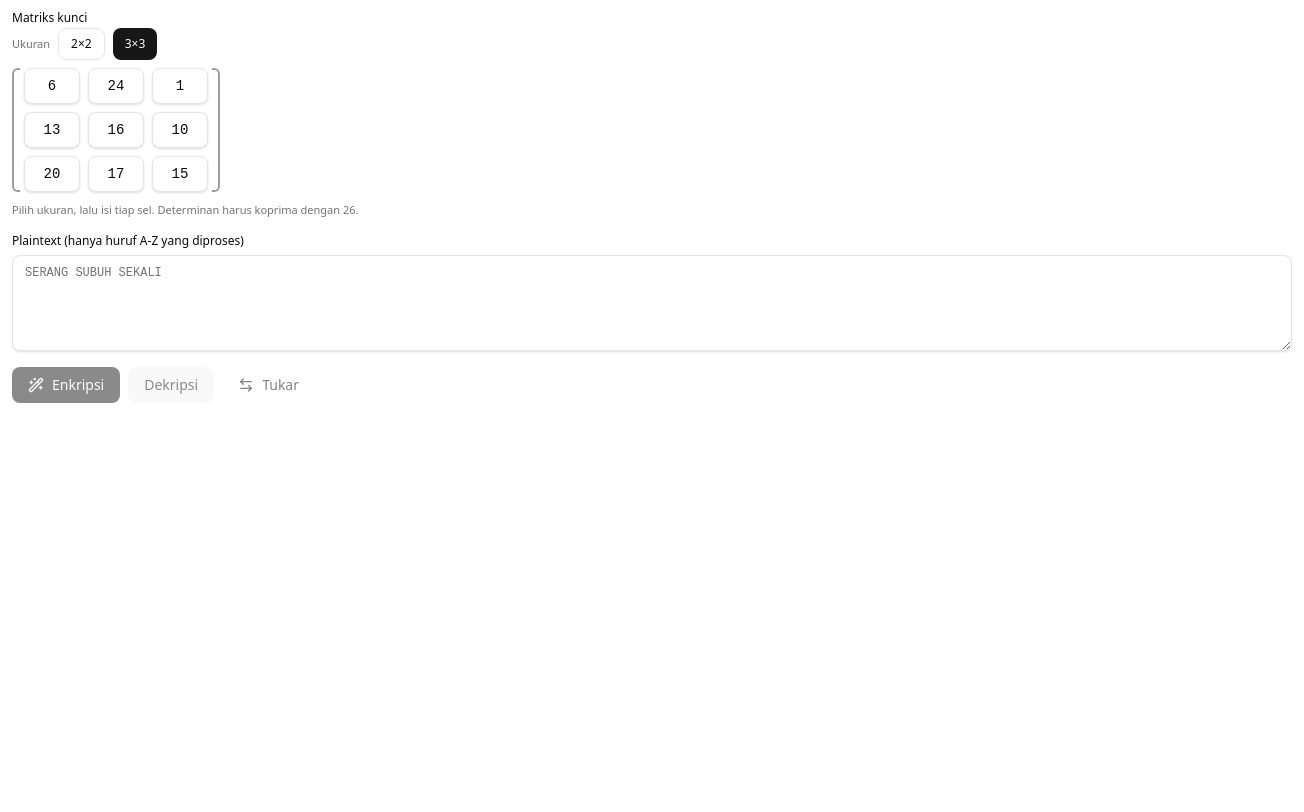
Scenario: TextPanel — enkripsi/dekripsi teks lewat GUI › Hill: matriks 3x3 default, ACT -> poh
Type "ACT" into the text box labelled "Plaintext (hanya huruf A-Z yang diproses)" at (652, 302), box [12,254,1292,350]
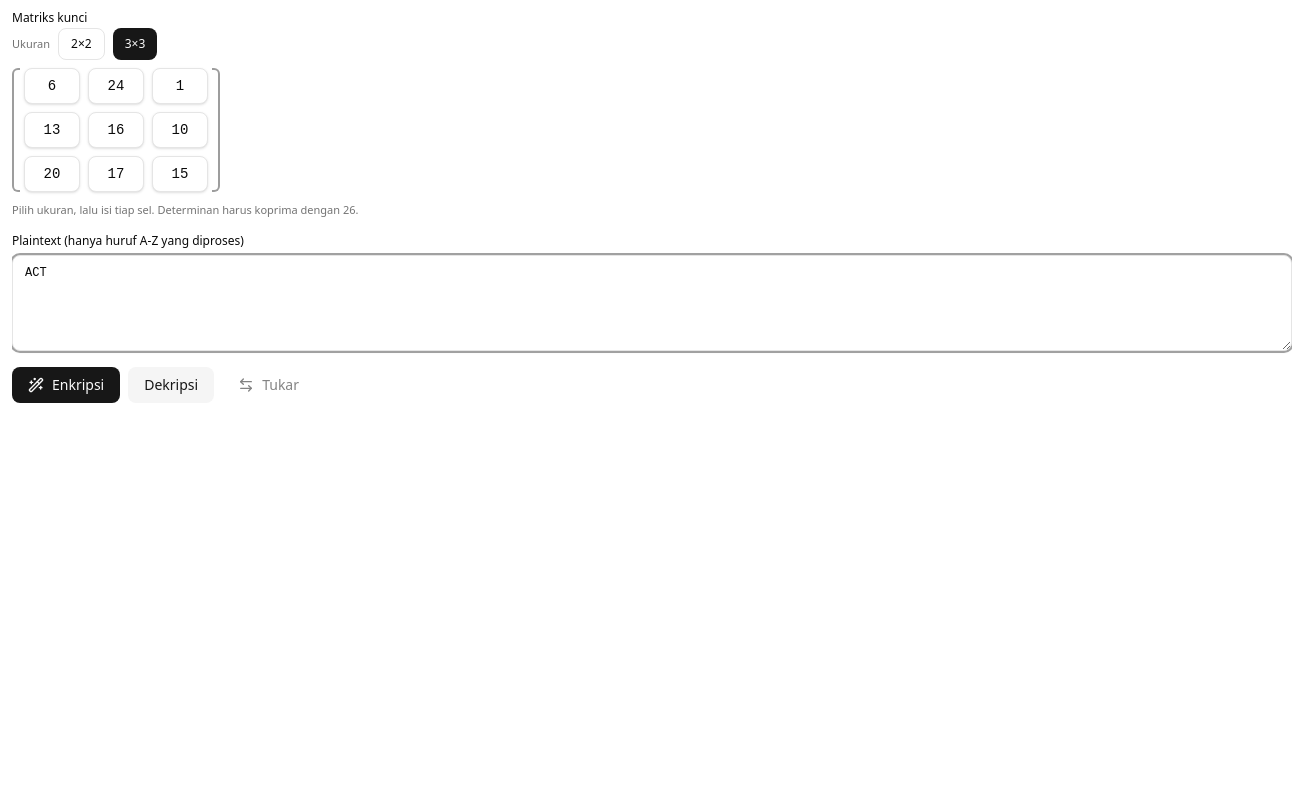
Click the button "Enkripsi" at (66, 384), box [12,366,120,402]
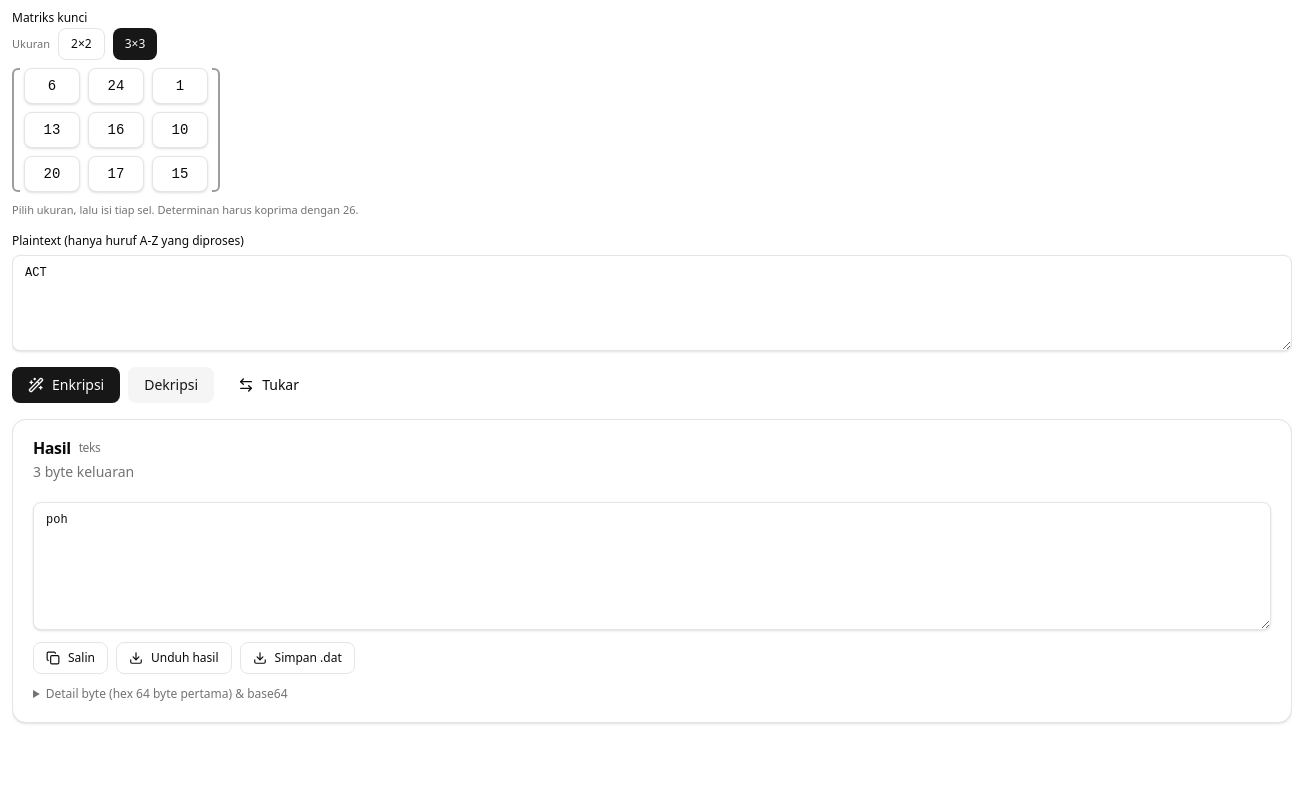
Now the text box with test id "result-output" holds "poh", box [33,502,1271,630]
